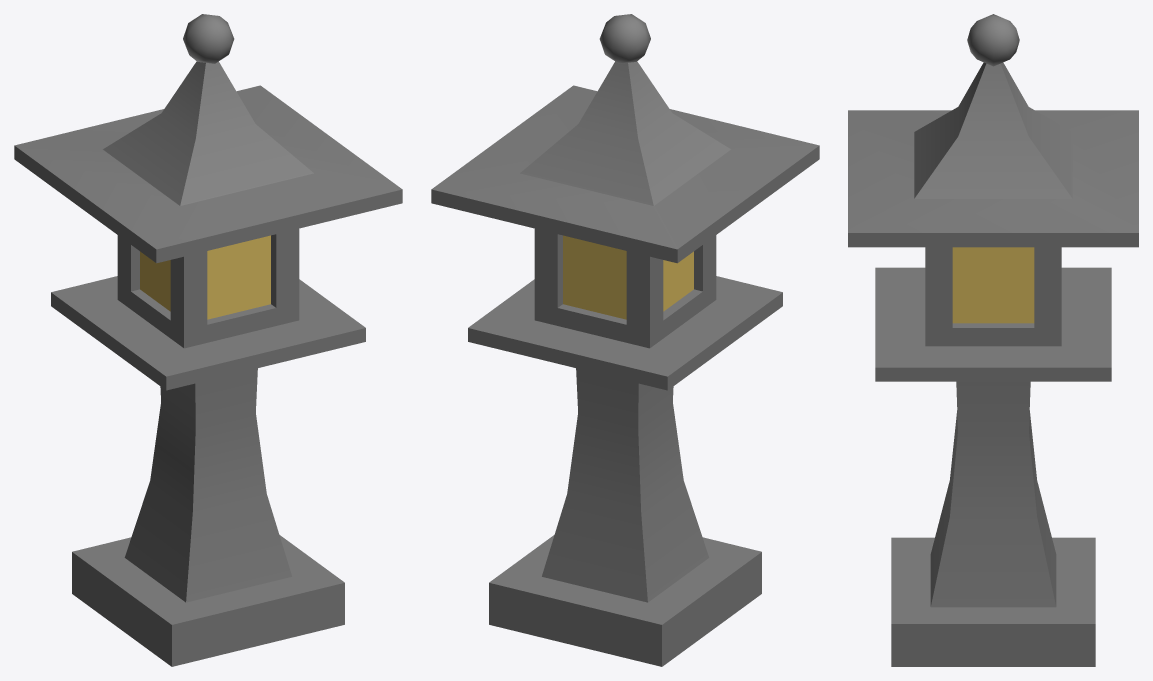
The model's file is SM_lantern_stone_japan_01.fbx.
3 views of the same model, side by side, from view 1: azimuth 30°, elevation 25°; view 2: azimuth 150°, elevation 25°; view 3: azimuth 270°, elevation 25° (orthographic). The views are drawn at different scales.
Visible parts, largest first — view 1: Object015; view 2: Object015; view 3: Object015.
Boxes of the visible parts, <box> form: Object015: <box>14,14,402,666</box>; Object015: <box>431,14,819,666</box>; Object015: <box>848,14,1138,666</box>.
Bounding box in the file's own units: 26.74 × 61.62 × 26.74.
